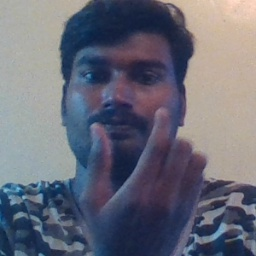U: (71, 100, 215, 247)
